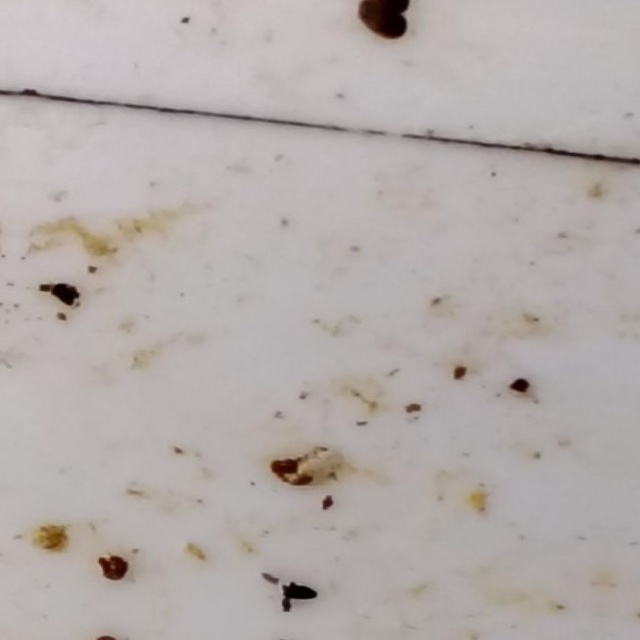varroa: (354, 9, 409, 44)
